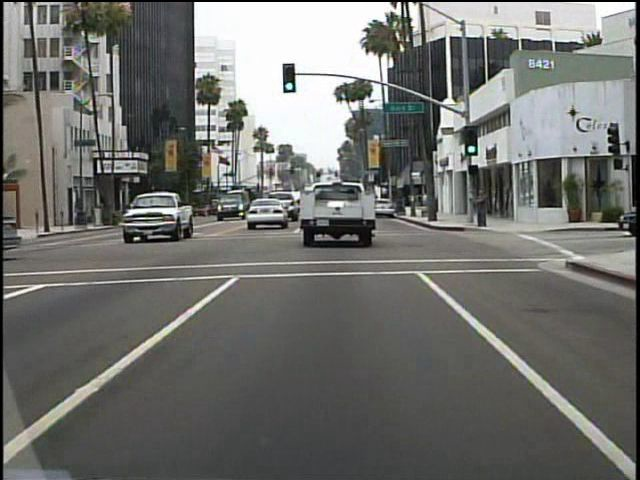person: (471, 180, 490, 231)
